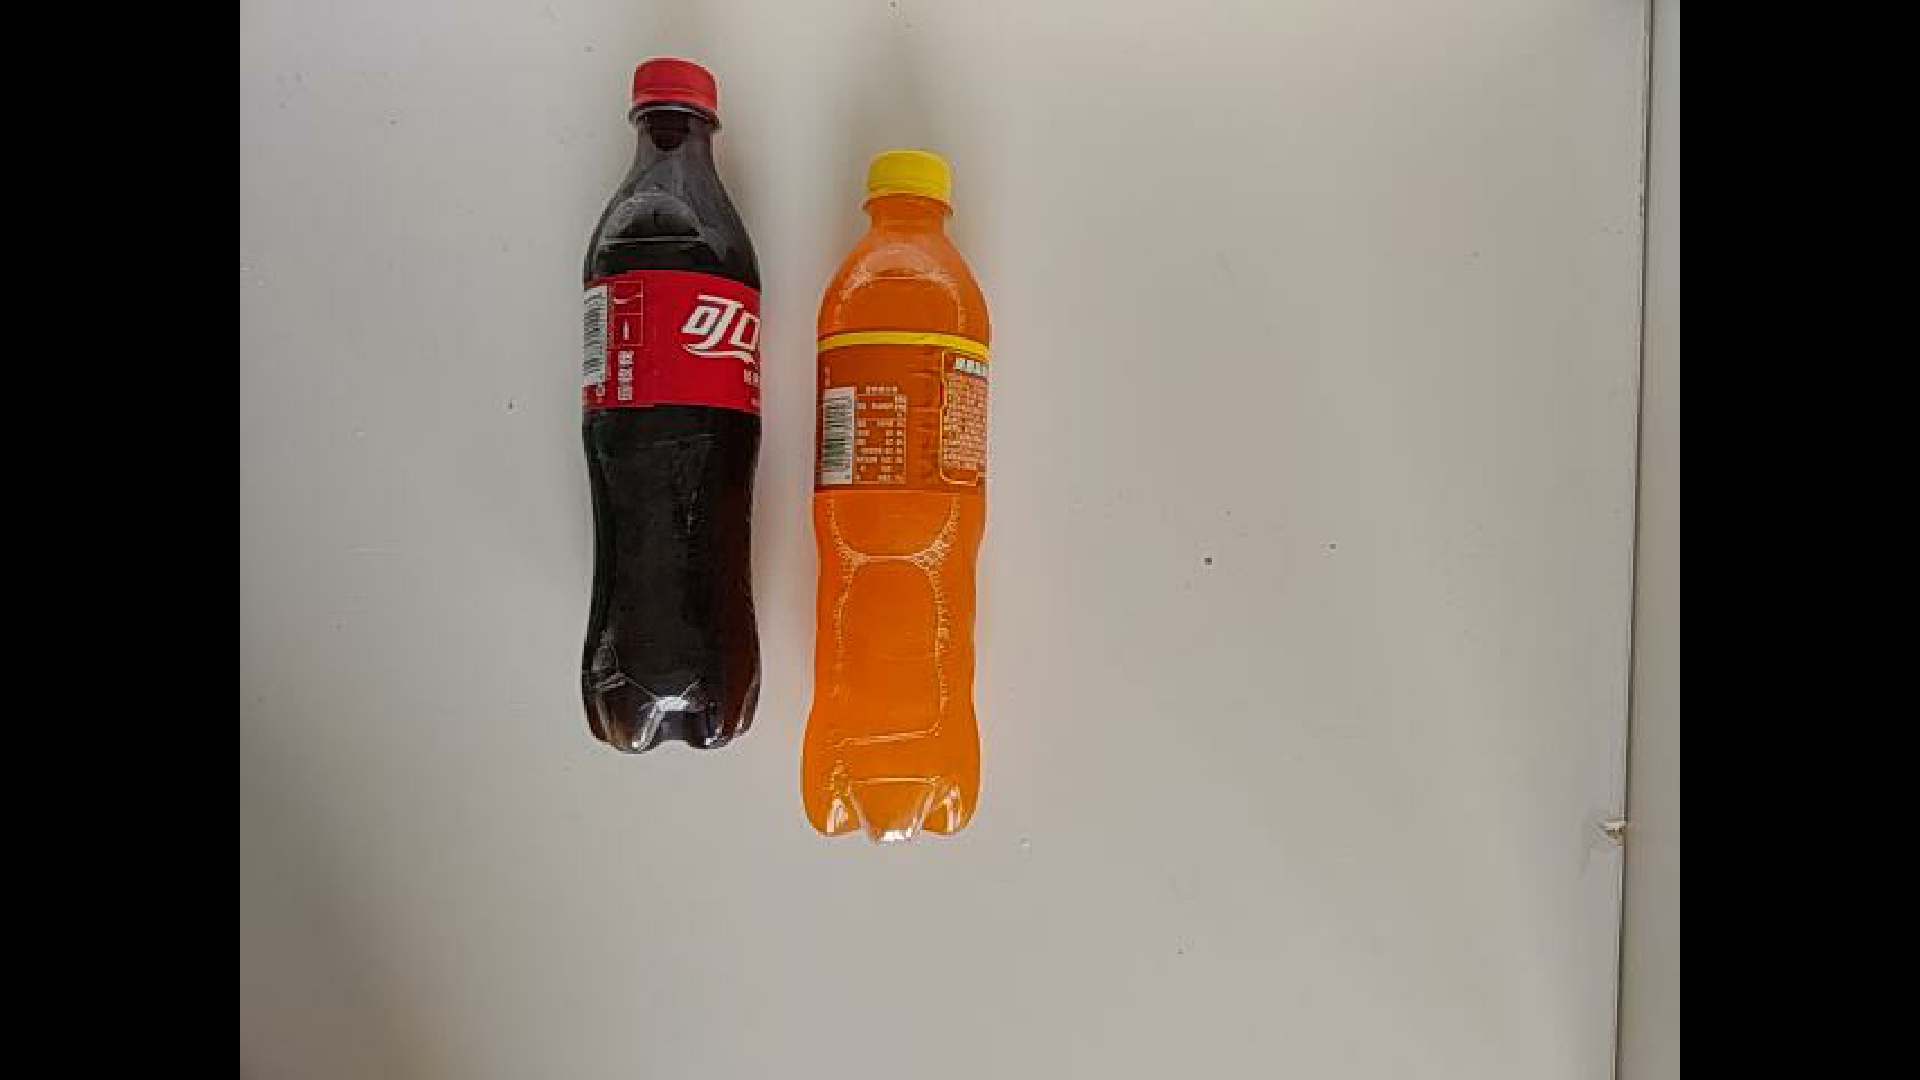cola: (580, 54, 765, 756)
fenta: (783, 142, 1001, 847)
